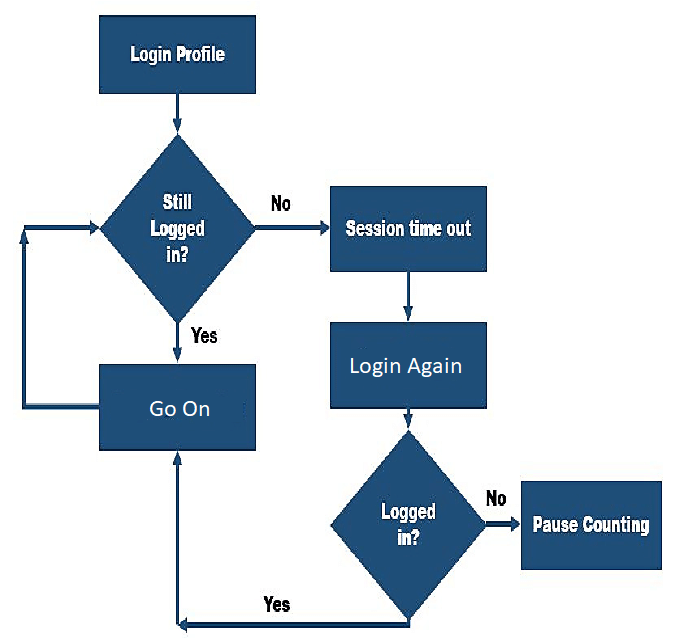arrow: (16, 229, 102, 412), (175, 614, 415, 636), (169, 452, 185, 626), (20, 220, 104, 238), (251, 220, 332, 237), (400, 269, 416, 325), (168, 93, 188, 132), (484, 515, 518, 532), (170, 320, 184, 359), (401, 407, 414, 430)
decision: (328, 428, 490, 625), (98, 131, 257, 326)
process: (96, 359, 261, 454), (326, 182, 492, 275), (327, 319, 491, 412), (96, 12, 261, 96), (519, 479, 664, 573)
text: (149, 190, 207, 265), (529, 512, 651, 539), (347, 354, 463, 380), (379, 500, 438, 549), (344, 219, 473, 238), (127, 42, 229, 66), (147, 396, 212, 418), (187, 324, 222, 345), (264, 591, 291, 617), (484, 486, 508, 508), (268, 191, 293, 212)
